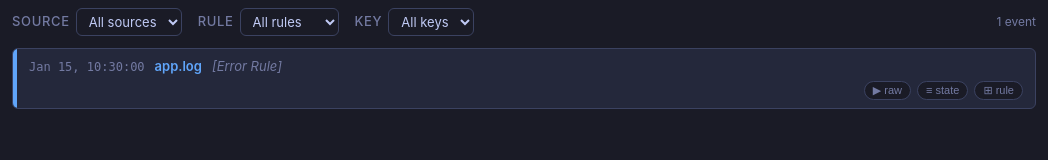
StateEvolutionView (Event Feed) › toggles raw line on button click
Expected: the text "ERROR something went wrong" is not shown
Click the button titled "Toggle raw log line": (887, 90) [864,80,911,100]
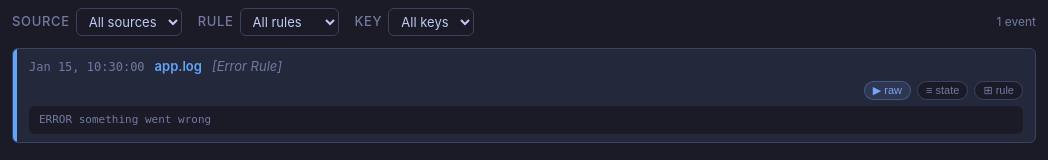
Now the text "ERROR something went wrong" is shown, box [29,106,1023,134]
Note: Click again to collapse
Click the button titled "Toggle raw log line": (887, 90) [864,80,911,100]
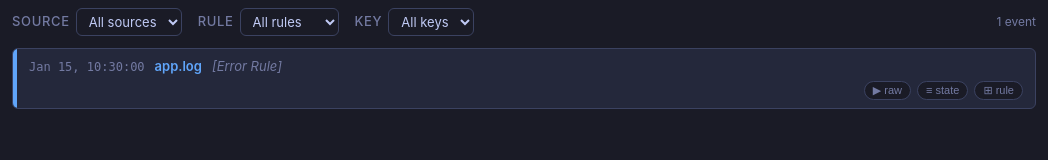
Now the text "ERROR something went wrong" is gone
